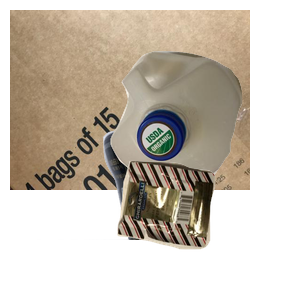cardboard: (10, 10, 250, 190)
glass: (37, 120, 231, 300)
plastic: (108, 49, 300, 226)
trash: (115, 158, 300, 300)
